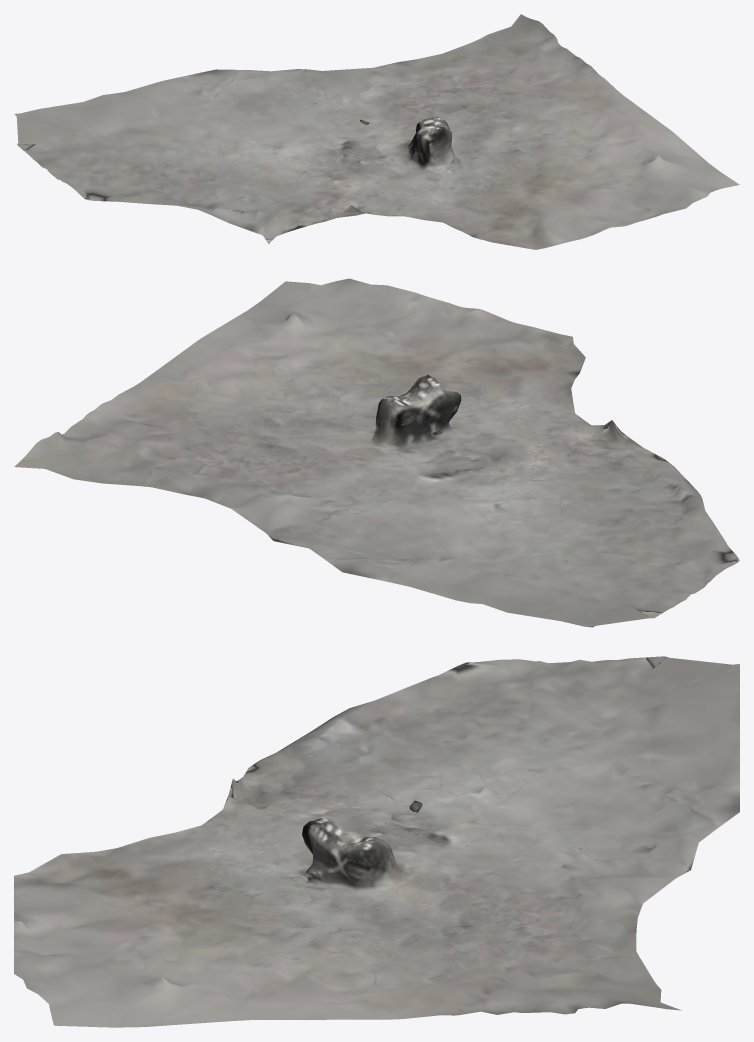
File: hall.glb
The picture shows the model from 3 angles, top to bottom: view 1: azimuth 30°, elevation 25°; view 2: azimuth 150°, elevation 25°; view 3: azimuth 270°, elevation 25°; orthographic projection. The views are drawn at different scales.
Size of the model in its own units: 3.55 by 0.3681 by 3.05.
1 material, 1 textured.
